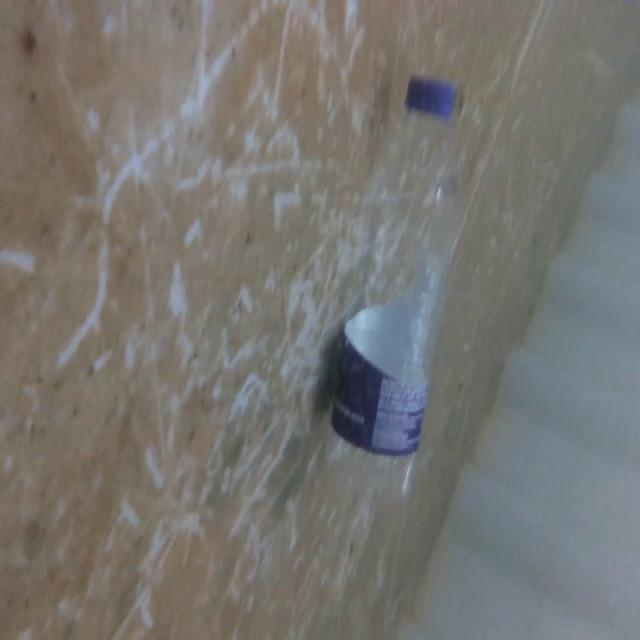plastic bottle: (320, 68, 464, 511)
